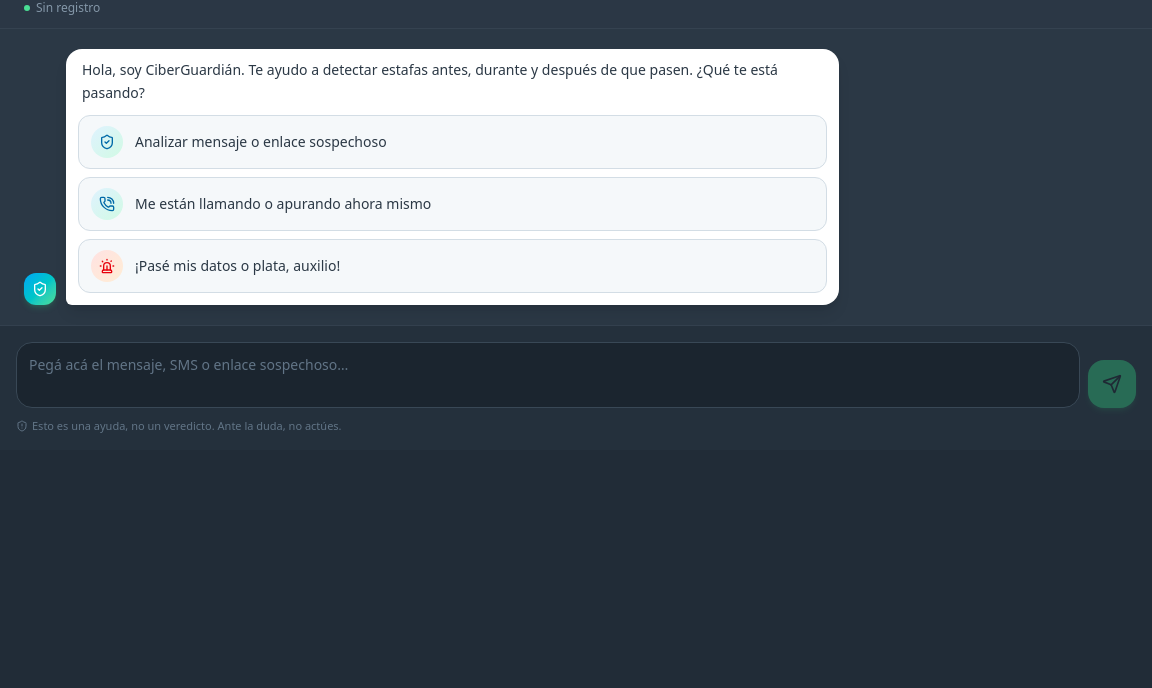
Test: ChatAssistant: preguntas de seguimiento (FH26-57) › muestra los pasos y los contactos con enlaces seguros según el canal
Type "Banco Formosa: pasame el token urgente" into the text box named "Mensaje sospechoso".
click(548, 374); type("Banco Formosa: pasame el token urgente")  # box [16,342,1080,408]
Then press Enter
(page scrolled)
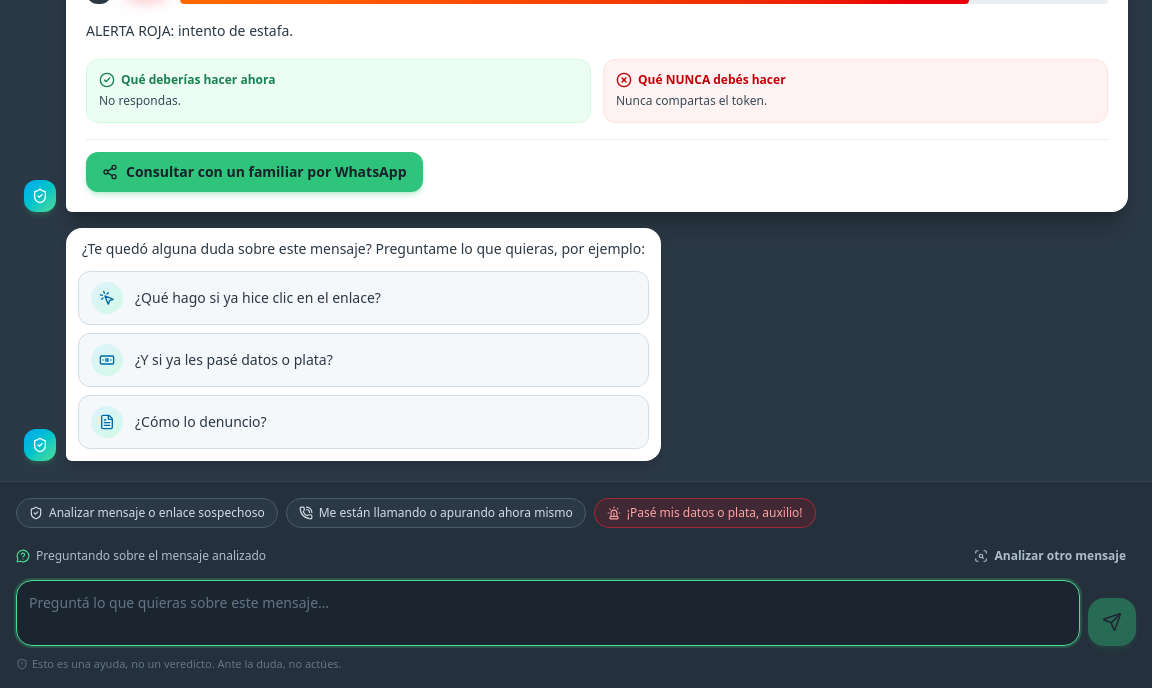
Now the text "ALERTA ROJA: intento de estafa." is shown, box [86,21,293,40]
Click the button "¿Cómo lo denuncio?".
click(107, 422)  # box [78,395,649,449]
(page scrolled)
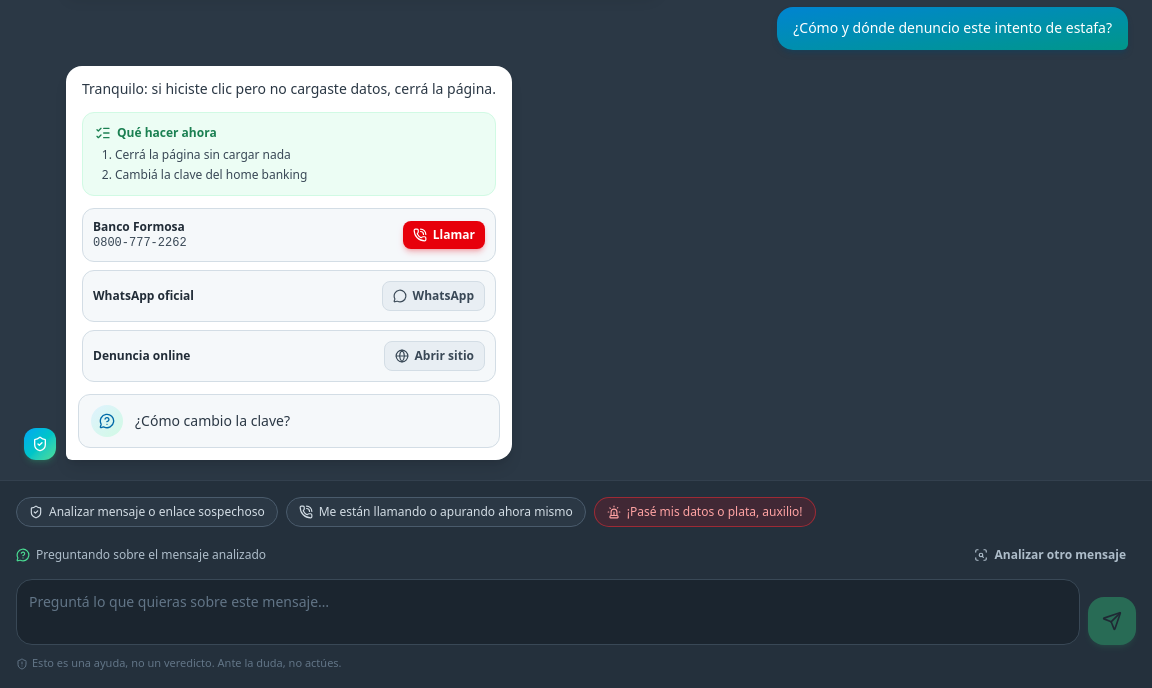
Now the text "Tranquilo: si hiciste clic pero no cargaste datos, cerrá la página." is shown, box [82,78,496,100]
Now the list item "Cambiá la clave del home banking" is shown, box [115,166,307,183]
